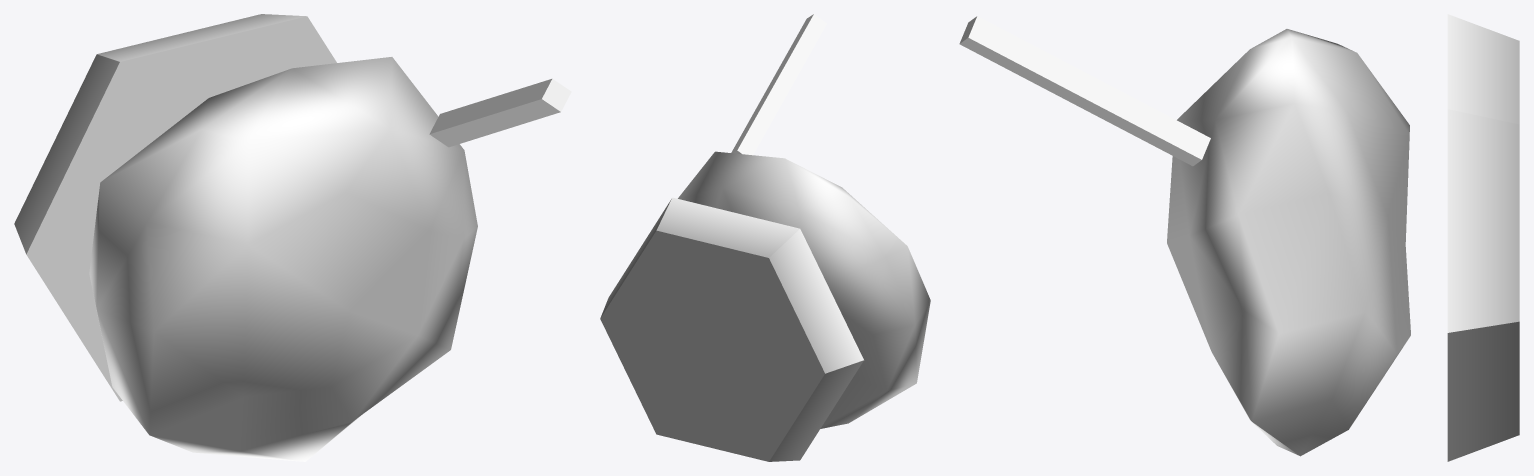
Rendered from SM_Chozubachi.glb.
The picture shows the model from 3 angles, left to right: view 1: azimuth 30°, elevation 25°; view 2: azimuth 150°, elevation 25°; view 3: azimuth 270°, elevation 25°; orthographic projection. The views are drawn at different scales.
Parts seen in each view (by area): view 1: asset_chozubachi; view 2: asset_chozubachi; view 3: asset_chozubachi.
Part boxes in pixels (<box>): asset_chozubachi: <box>14,14,571,461</box>; asset_chozubachi: <box>600,14,930,461</box>; asset_chozubachi: <box>959,14,1519,461</box>.
Bounding box in the file's own units: 0.5029 × 0.5913 × 0.6229.
Materials: 2 (2 with a texture image).
